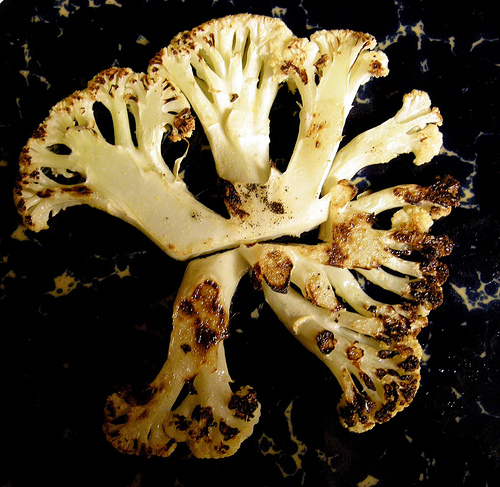cauliflower: (12, 13, 443, 255), (254, 247, 424, 432), (104, 259, 260, 458), (268, 28, 390, 217), (325, 90, 441, 198)
